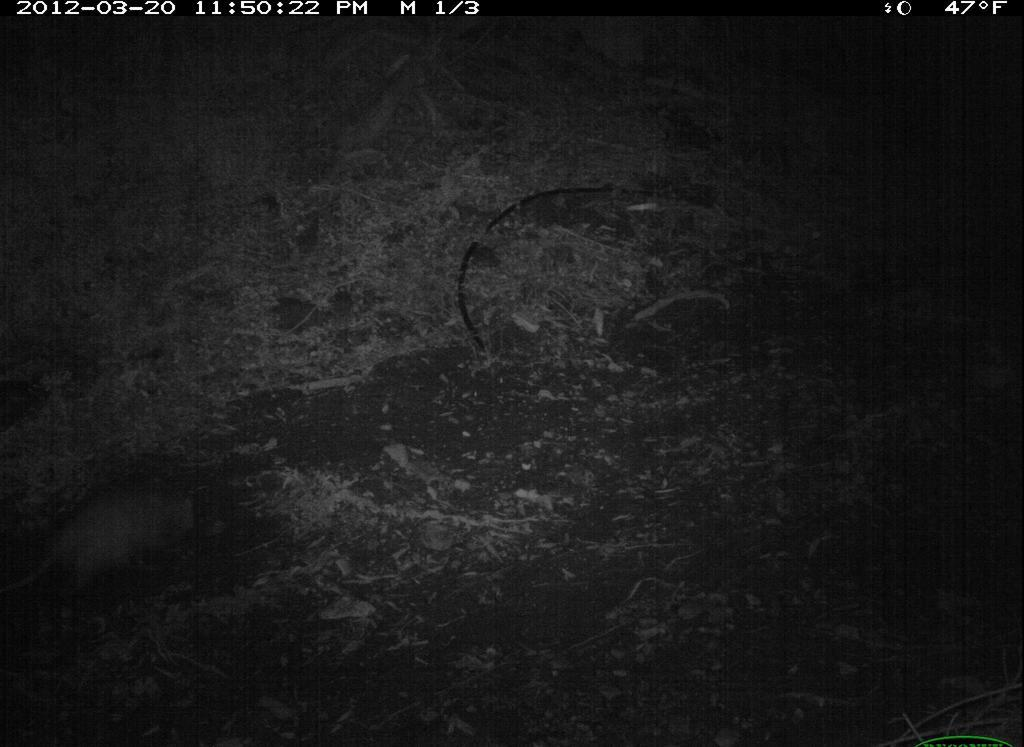opossum: (4, 463, 221, 607)
